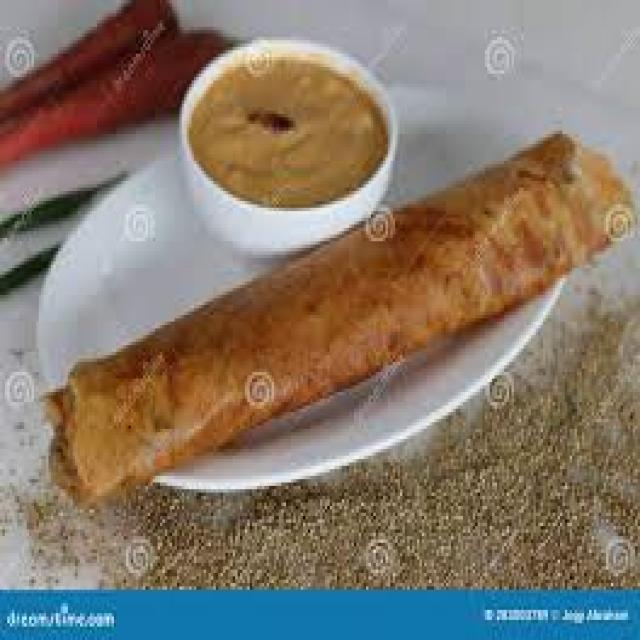DOSA: (39, 124, 625, 506)
